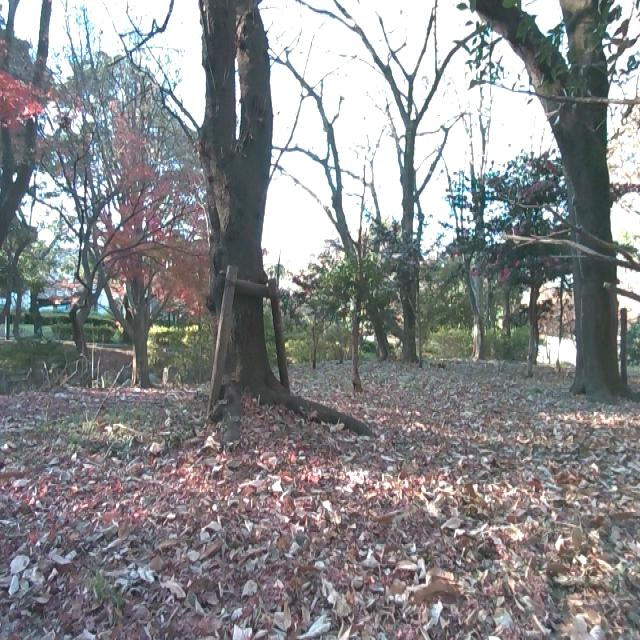tree: (473, 0, 640, 386), (318, 0, 458, 363), (196, 0, 293, 419), (43, 92, 148, 376), (0, 0, 66, 274), (104, 248, 170, 397), (346, 279, 377, 393)
